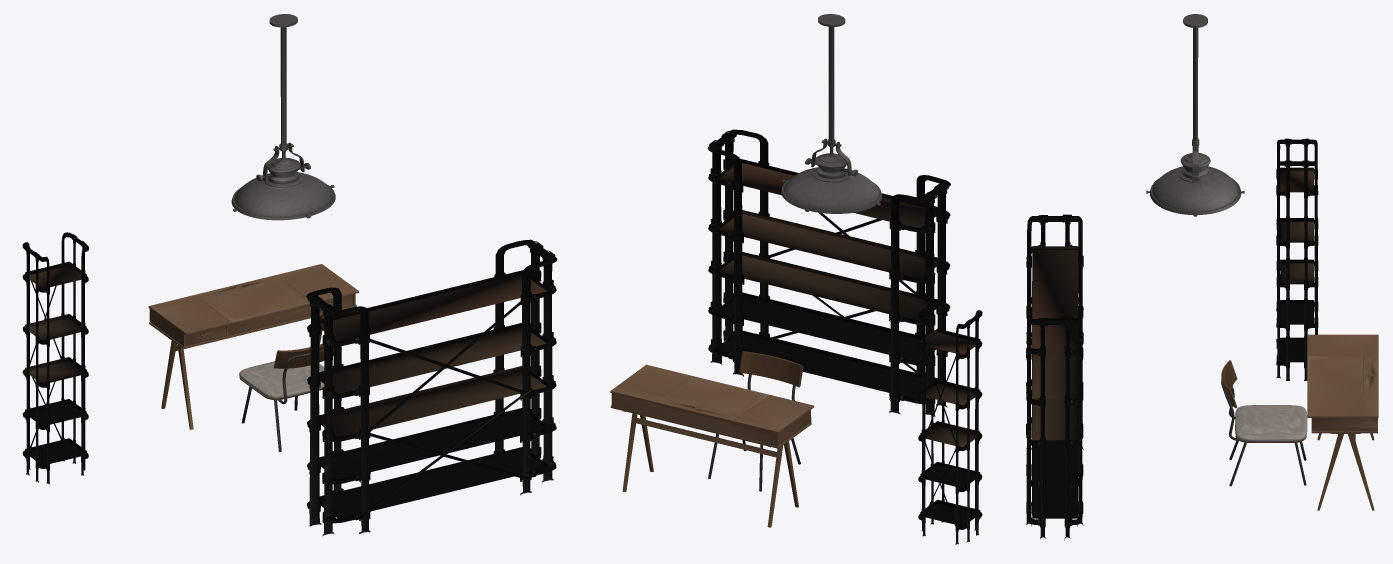
Rendered from gallery-front-library-72565-lowres.glb.
3 views of the same model, side by side, from view 1: azimuth 30°, elevation 25°; view 2: azimuth 150°, elevation 25°; view 3: azimuth 270°, elevation 25° (orthographic). The views are drawn at different scales.
Visible parts, largest first — view 1: assembled_scene; view 2: assembled_scene; view 3: assembled_scene.
Part boxes in pixels (<box>): assembled_scene: <box>22,14,557,536</box>; assembled_scene: <box>610,14,982,544</box>; assembled_scene: <box>1026,14,1378,540</box>.
Bounding box in the file's own units: 1.29 × 1.35 × 1.02.
